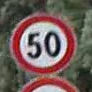limite 50: (8, 11, 76, 74)
